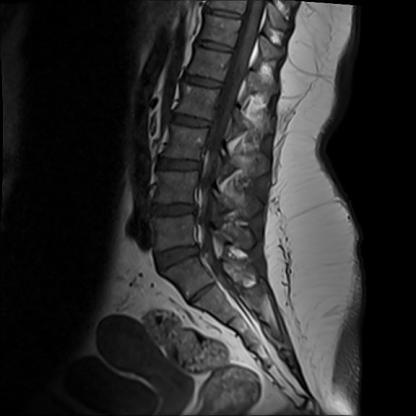Degenerative Disc Diseaserotation: (145, 193, 202, 223), (154, 245, 204, 272)
Disc Relaxationrotation: (152, 243, 204, 273)
